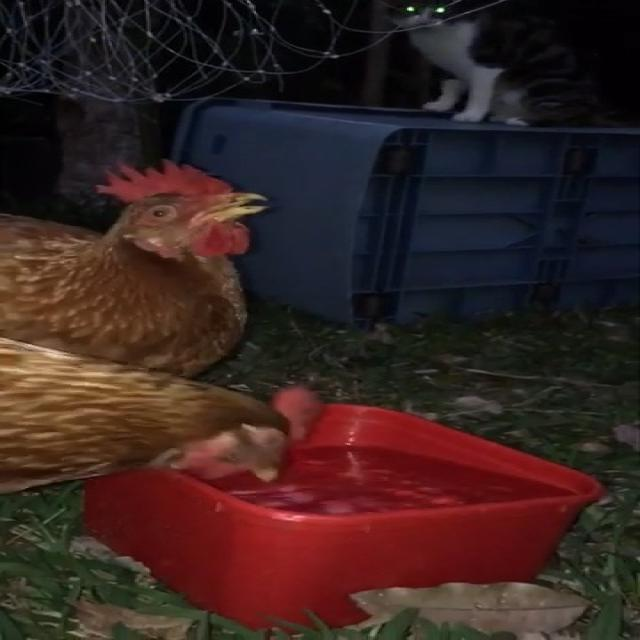drinking: (0, 346, 331, 492)
